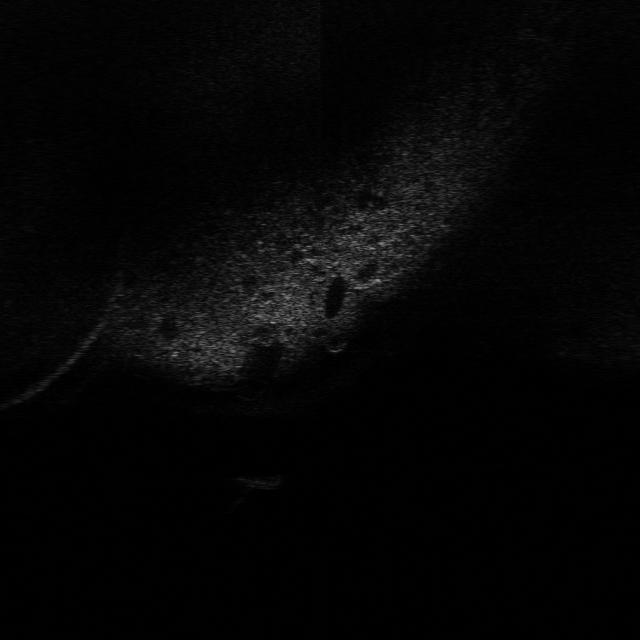ball: (318, 327, 349, 357)
cube: (231, 470, 287, 493)
